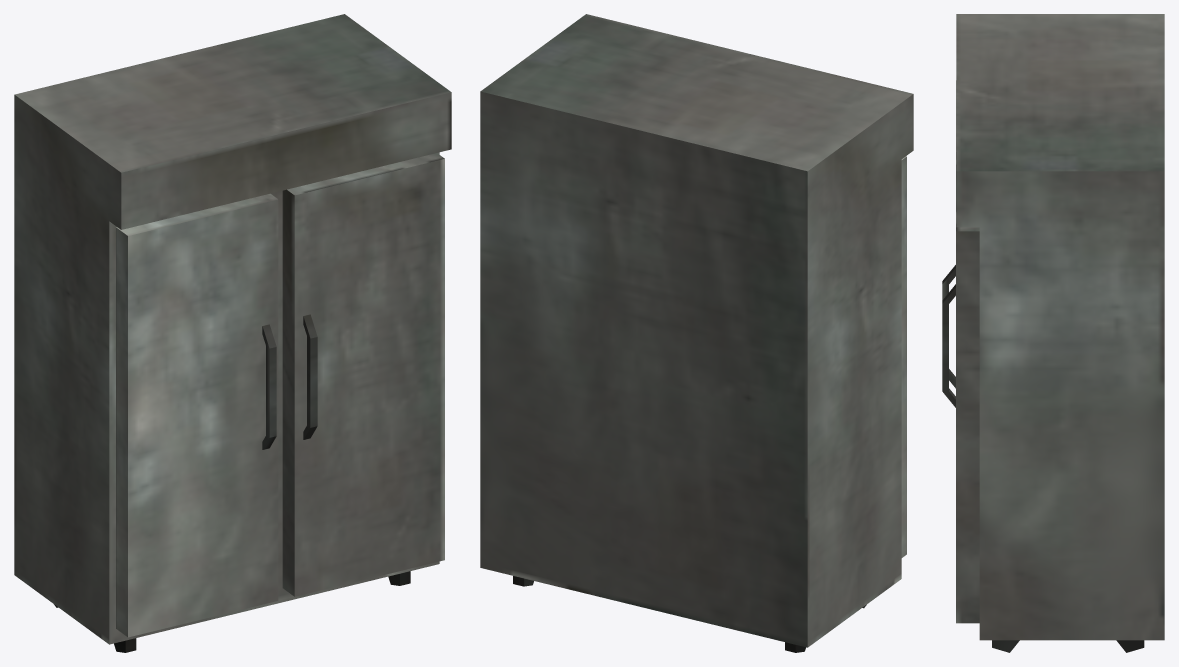
File: RefrigeratorType1.glb
The picture shows the model from 3 angles, left to right: view 1: azimuth 30°, elevation 25°; view 2: azimuth 150°, elevation 25°; view 3: azimuth 270°, elevation 25°; orthographic projection. The views are drawn at different scales.
Visible parts, largest first — view 1: Refrigerator_01; view 2: Refrigerator_01; view 3: Refrigerator_01.
Boxes of the visible parts, bbox=[...] form: Refrigerator_01: bbox=[14, 14, 451, 652]; Refrigerator_01: bbox=[480, 14, 913, 652]; Refrigerator_01: bbox=[942, 14, 1164, 652].
Size of the model in its own units: 1.89 by 2.76 by 1.13.
1 material, 1 textured.
